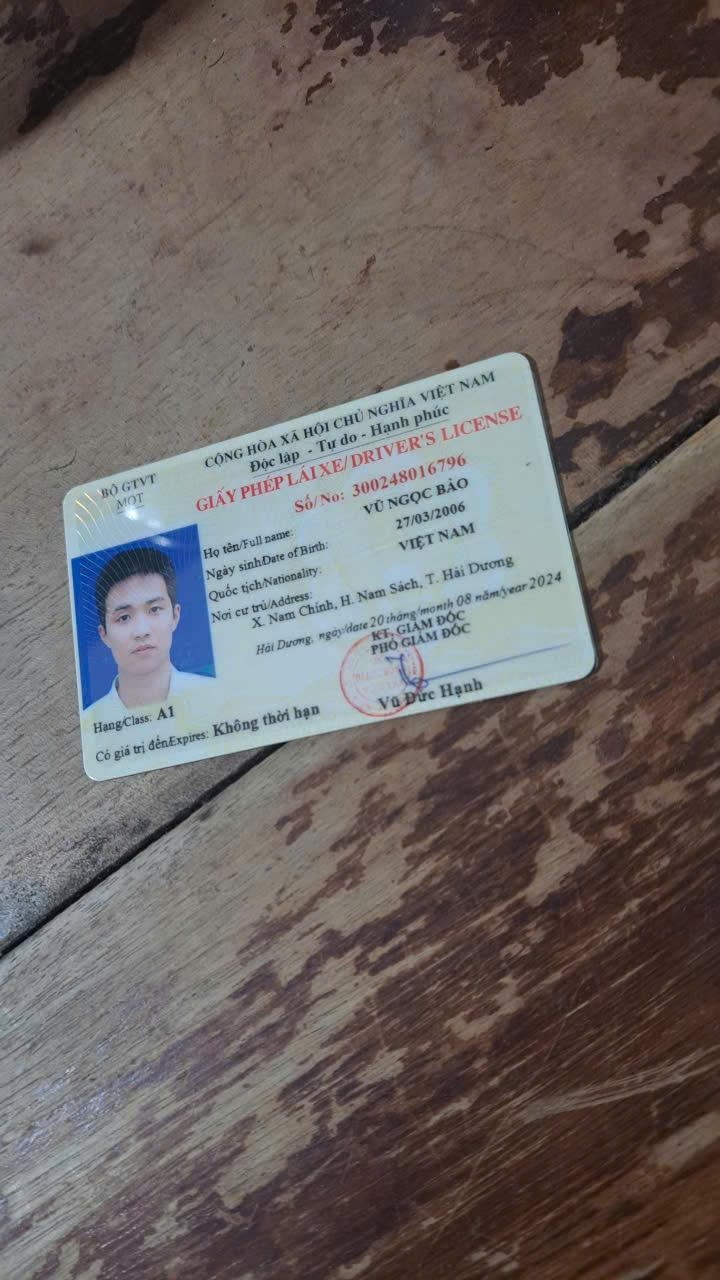gplx: (56, 347, 600, 790)
